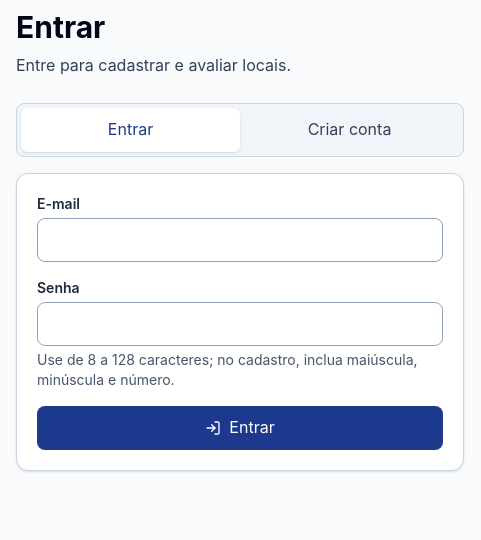
Scenario: Login › não solicita dado de deficiência e expõe erros associados
The width and height of the screenshot is (481, 540).
Click the button "Entrar" below "Senha". click: (240,428)
box: [37,406,443,450]
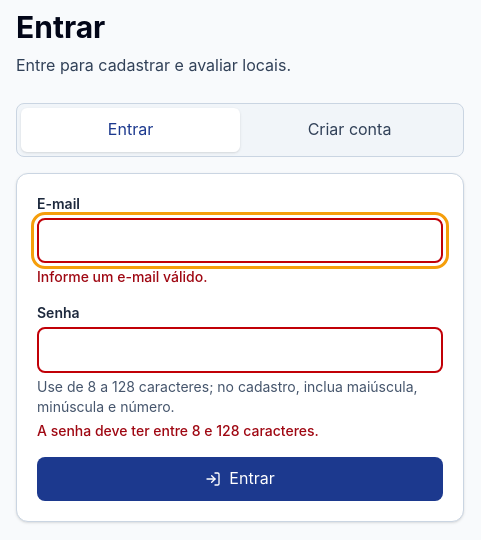
Result: the text "Informe um e-mail válido." is shown at [37,268,207,285]
